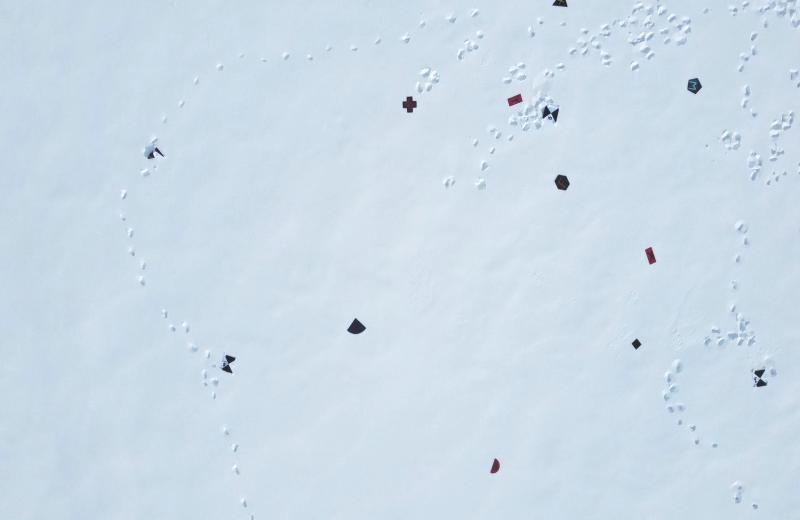Cross: (402, 95, 417, 113)
Hexagon: (554, 173, 570, 192)
Pentagon: (686, 76, 702, 96)
Quarter Circle: (346, 316, 367, 337)
Rectangle: (645, 247, 657, 266), (506, 94, 522, 107)
Semi Circle: (488, 458, 501, 474)
Square: (632, 338, 642, 351)
Triangle: (552, 0, 568, 8)
